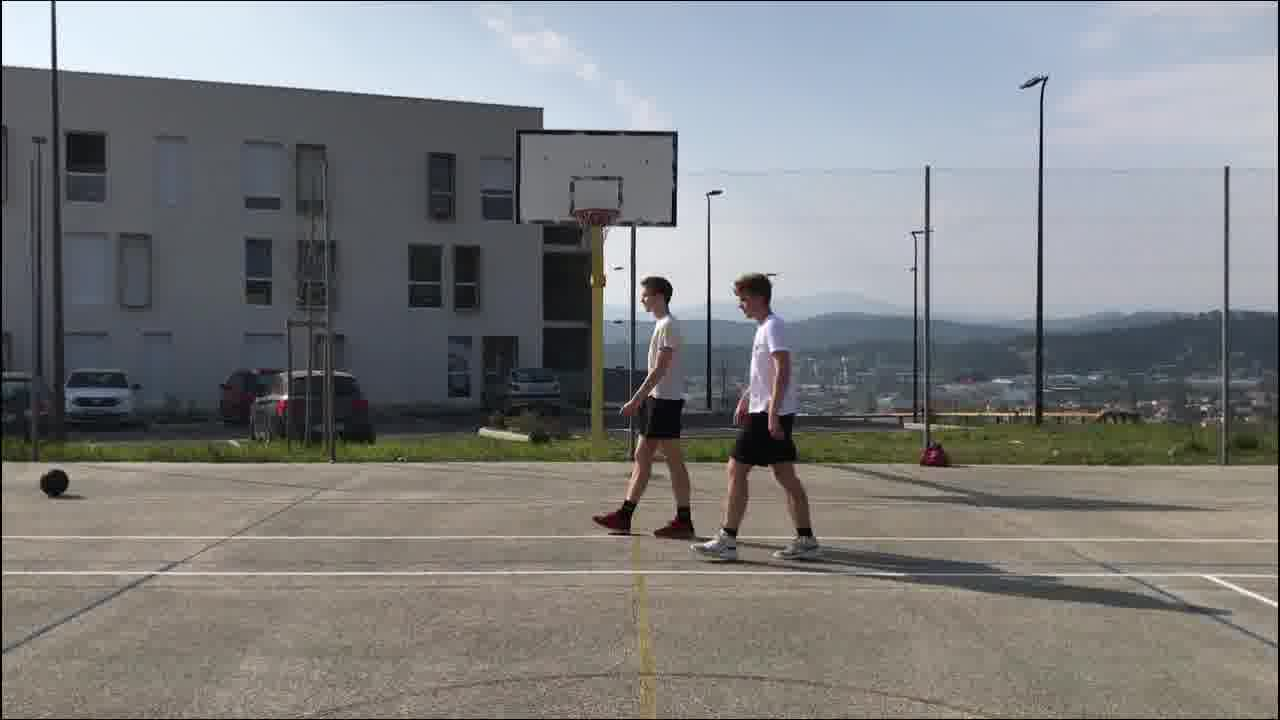jugador: (587, 267, 708, 548)
